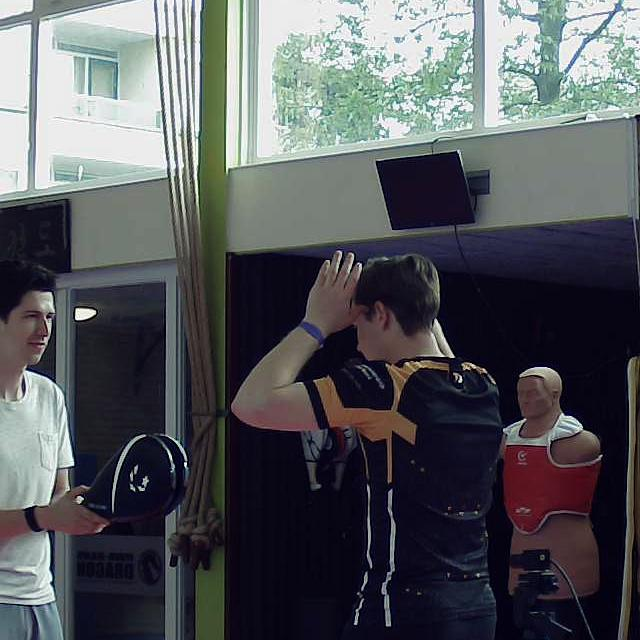paddle: (78, 430, 190, 520)
